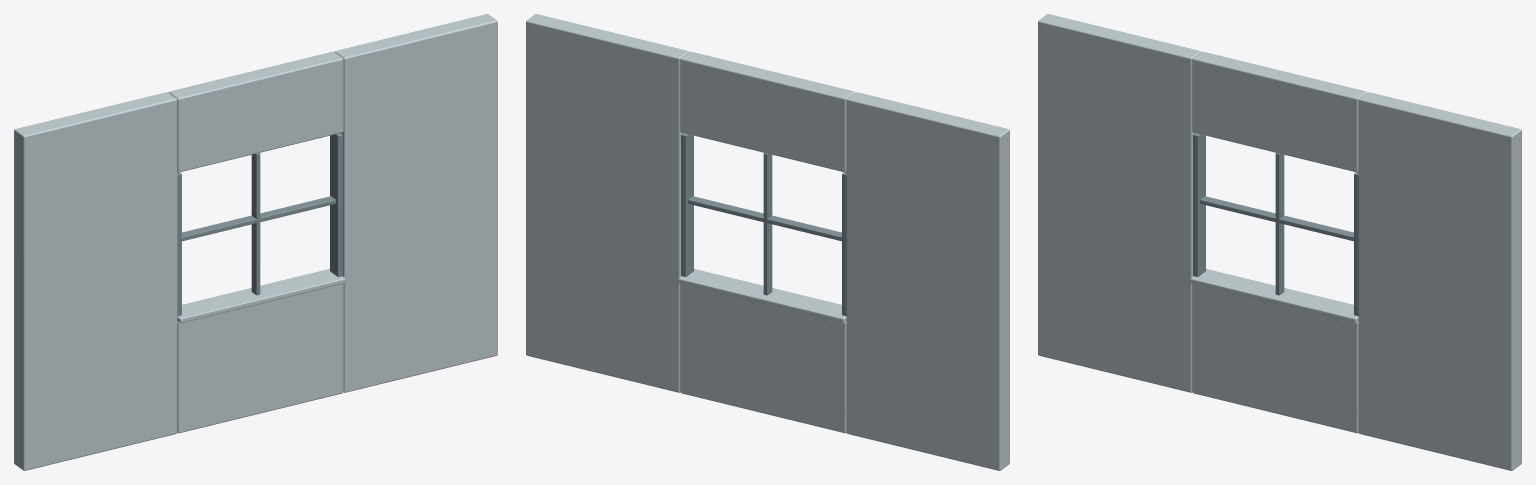
Rendered from window.glb.
3 views of the same model, side by side, from view 1: azimuth 30°, elevation 25°; view 2: azimuth 150°, elevation 25°; view 3: azimuth 330°, elevation 25° (orthographic).
Parts seen in each view (by area): view 1: wall_right, wall_left, sill_wall, lintel, sill_cap, jamb_1, window_transom, window_mullion, jamb_-1; view 2: wall_right, wall_left, sill_wall, lintel, sill_cap, jamb_1, window_transom, window_mullion, jamb_-1; view 3: wall_left, wall_right, sill_wall, lintel, sill_cap, jamb_-1, window_transom, window_mullion, jamb_1.
Part boxes in pixels (box(x1,y1,x2,y2)): wall_right: box(14, 92, 177, 470); wall_left: box(335, 14, 497, 392); sill_wall: box(177, 283, 343, 433); lintel: box(168, 51, 343, 172); sill_cap: box(177, 269, 345, 323); jamb_1: box(330, 133, 342, 276); window_transom: box(182, 196, 335, 241); window_mullion: box(251, 153, 260, 295); jamb_-1: box(177, 172, 181, 316); wall_right: box(846, 92, 1009, 470); wall_left: box(526, 14, 688, 392); sill_wall: box(680, 283, 846, 433); lintel: box(680, 51, 855, 172); sill_cap: box(678, 269, 846, 323); jamb_1: box(681, 133, 693, 276); window_transom: box(688, 196, 841, 241); window_mullion: box(763, 153, 772, 295); jamb_-1: box(842, 172, 846, 316); wall_left: box(1358, 92, 1521, 470); wall_right: box(1038, 14, 1200, 392); sill_wall: box(1192, 283, 1358, 433); lintel: box(1192, 51, 1367, 172); sill_cap: box(1190, 269, 1358, 323); jamb_-1: box(1193, 133, 1205, 276); window_transom: box(1200, 196, 1353, 241); window_mullion: box(1275, 153, 1284, 295); jamb_1: box(1354, 172, 1358, 316).
Size of the model in its own units: 4 by 2.7 by 0.21.
